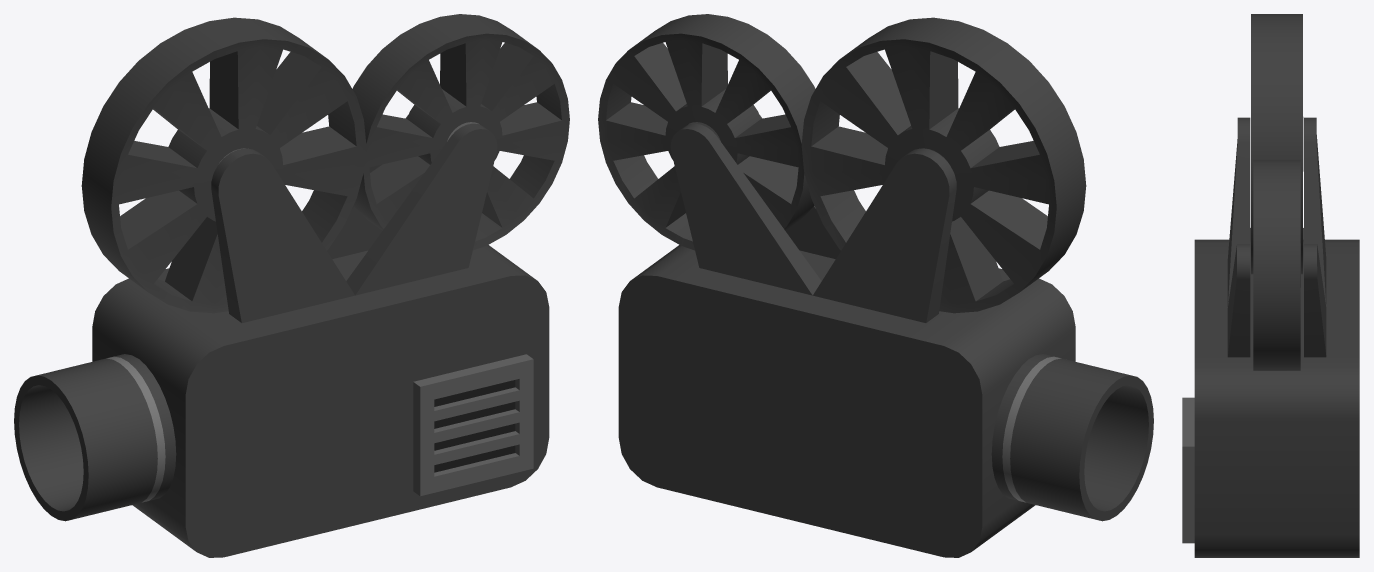
The model's file is film_projector.gltf.
3 renders of one model, left to right at view 1: azimuth 30°, elevation 25°; view 2: azimuth 150°, elevation 25°; view 3: azimuth 270°, elevation 25°, orthographic. The views are drawn at different scales.
Visible parts, largest first — view 1: Cube.937; view 2: Cube.937; view 3: Cube.937.
Part boxes in pixels (x1,y1,x2,y2): Cube.937: [14, 14, 569, 557]; Cube.937: [598, 14, 1153, 557]; Cube.937: [1182, 14, 1359, 557].
Size of the model in its own units: 2.25 by 2.04 by 0.7731.
Materials: 1 (1 with a texture image).
